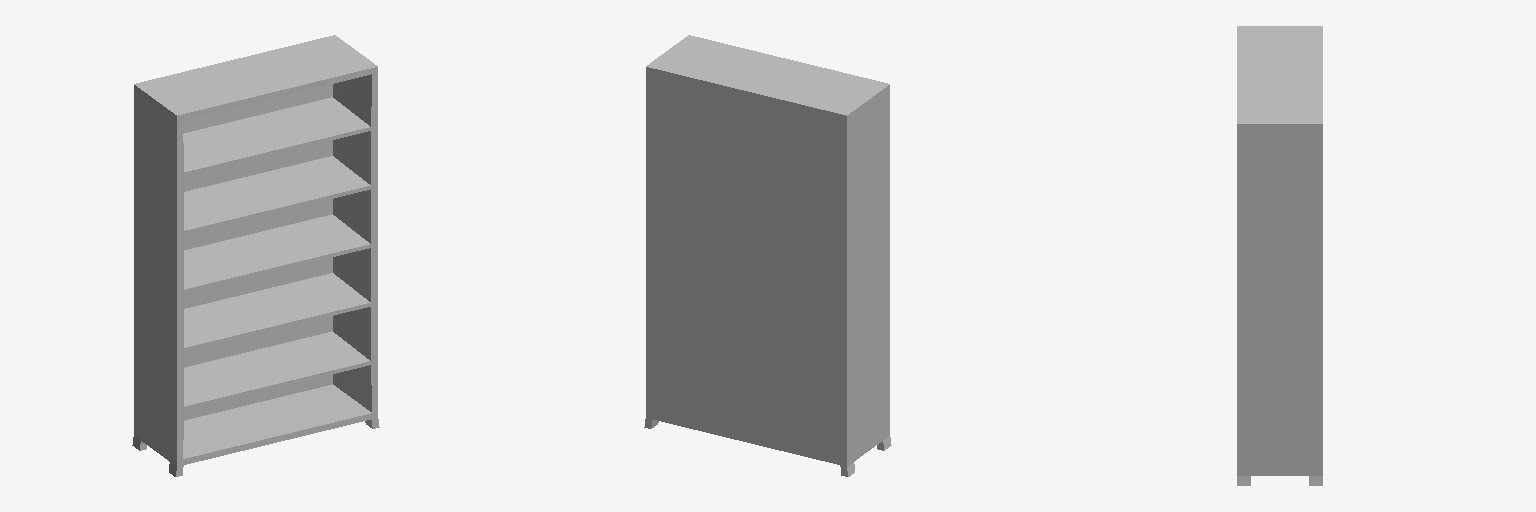
Rendered from uploads_files_2724147_Bookshelf.obj.
3 renders of one model, left to right at view 1: azimuth 30°, elevation 25°; view 2: azimuth 150°, elevation 25°; view 3: azimuth 270°, elevation 25°, orthographic.
Visible parts, largest first — view 1: Cube_Cube.001; view 2: Cube_Cube.001; view 3: Cube_Cube.001.
Boxes of the visible parts, x1,y1,x2,y2 form: Cube_Cube.001: [132, 35, 379, 476]; Cube_Cube.001: [644, 35, 891, 476]; Cube_Cube.001: [1237, 26, 1322, 485].
Size of the model in its own units: 1.22 by 2.06 by 0.4468.